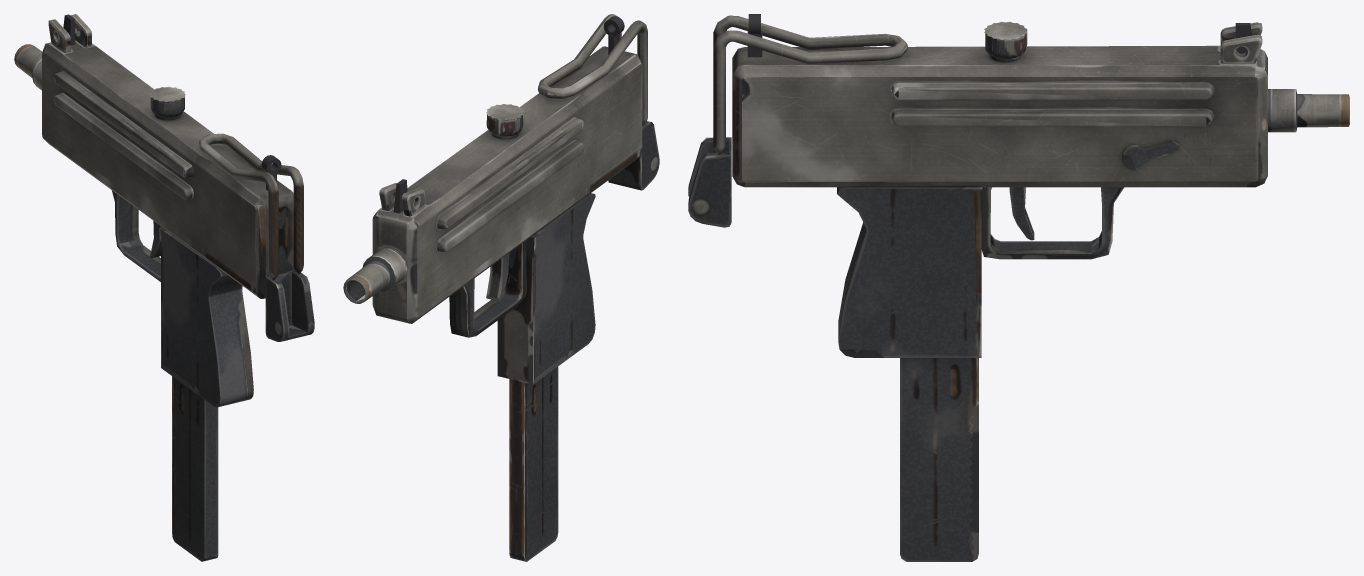
Rendered from smg.glb.
3 views of the same model, side by side, from view 1: azimuth 30°, elevation 25°; view 2: azimuth 150°, elevation 25°; view 3: azimuth 270°, elevation 25° (orthographic). The views are drawn at different scales.
Visible parts, largest first — view 1: mac10, mac10magazine_low, mac10derriere_low, mac10rond_low; view 2: mac10, mac10magazine_low, mac10derriere_low, mac10rond_low, mac10trigger_low; view 3: mac10, mac10magazine_low, mac10derriere_low, mac10rond_low, mac10bt_low.
Part boxes in pixels (x1=…): mac10: x1=14, y1=14, x2=294, y2=407; mac10magazine_low: x1=172, y1=376, x2=218, y2=561; mac10derriere_low: x1=199, y1=133, x2=314, y2=341; mac10rond_low: x1=150, y1=86, x2=185, y2=120; mac10: x1=343, y1=46, x2=642, y2=384; mac10magazine_low: x1=509, y1=366, x2=558, y2=561; mac10derriere_low: x1=538, y1=14, x2=659, y2=190; mac10rond_low: x1=486, y1=104, x2=523, y2=139; mac10trigger_low: x1=486, y1=253, x2=509, y2=301; mac10: x1=732, y1=22, x2=1349, y2=357; mac10magazine_low: x1=900, y1=358, x2=978, y2=561; mac10derriere_low: x1=688, y1=15, x2=907, y2=227; mac10rond_low: x1=984, y1=21, x2=1027, y2=62; mac10bt_low: x1=1122, y1=140, x2=1178, y2=170.
Bounding box in the file's own units: 0.0329 × 0.2443 × 0.2698.
2 materials, 1 textured.
